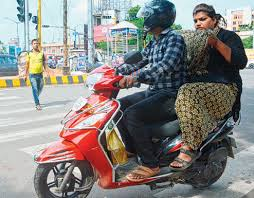helmet: (133, 1, 177, 34)
